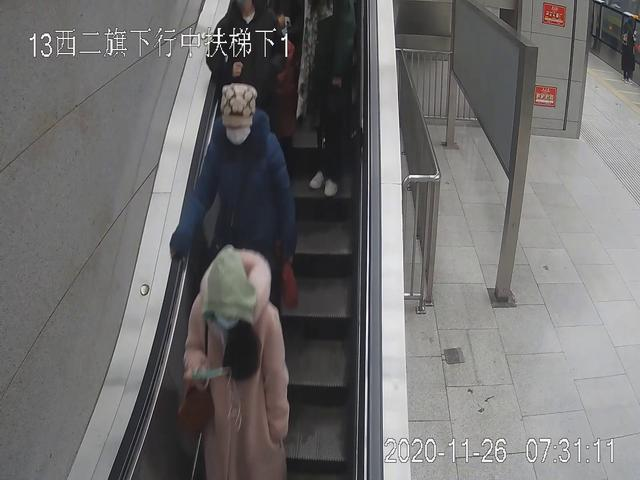person: (170, 84, 295, 377), (184, 244, 290, 480), (206, 1, 290, 205), (298, 1, 358, 195), (619, 18, 639, 82)
